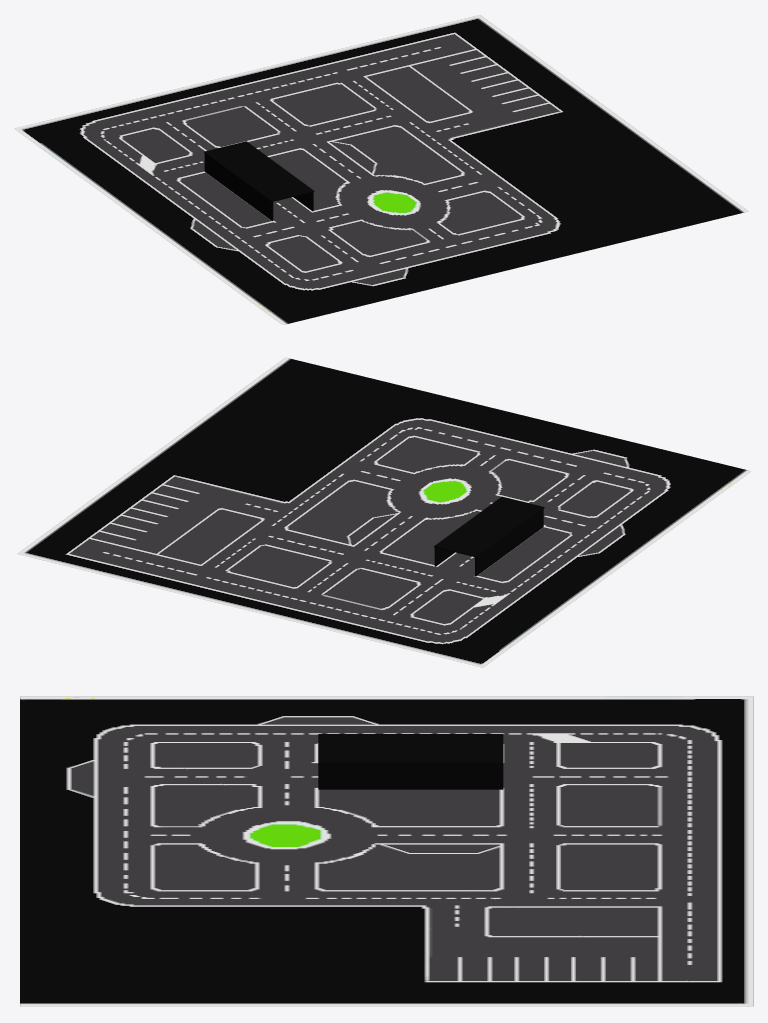
The model's file is harita2.obj.
3 views of the same model, one above another, from view 1: azimuth 30°, elevation 25°; view 2: azimuth 150°, elevation 25°; view 3: azimuth 270°, elevation 25° (orthographic). The views are drawn at different scales.
Visible parts, largest first — view 1: Plane; view 2: Plane; view 3: Plane.
Boxes of the visible parts, box(x1,y1,x2,y2) form: Plane: box(14, 15, 748, 324); Plane: box(17, 357, 751, 667); Plane: box(20, 696, 753, 1006).
Bounding box in the file's own units: 2 × 0.082 × 2.
